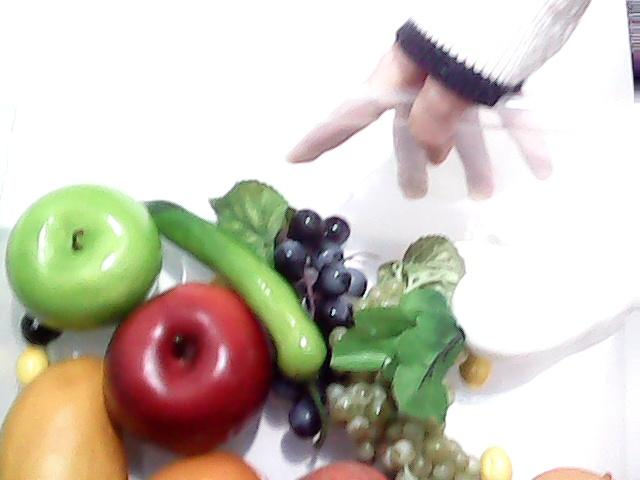apple: (99, 284, 274, 461), (0, 177, 172, 335)
grape: (331, 340, 493, 480), (275, 206, 369, 446)
lemon: (114, 443, 277, 480)
mango: (0, 332, 124, 480)
peach: (294, 460, 391, 480)
pepper: (142, 196, 332, 376)
potato: (524, 462, 612, 480)
radish: (328, 228, 640, 424)
